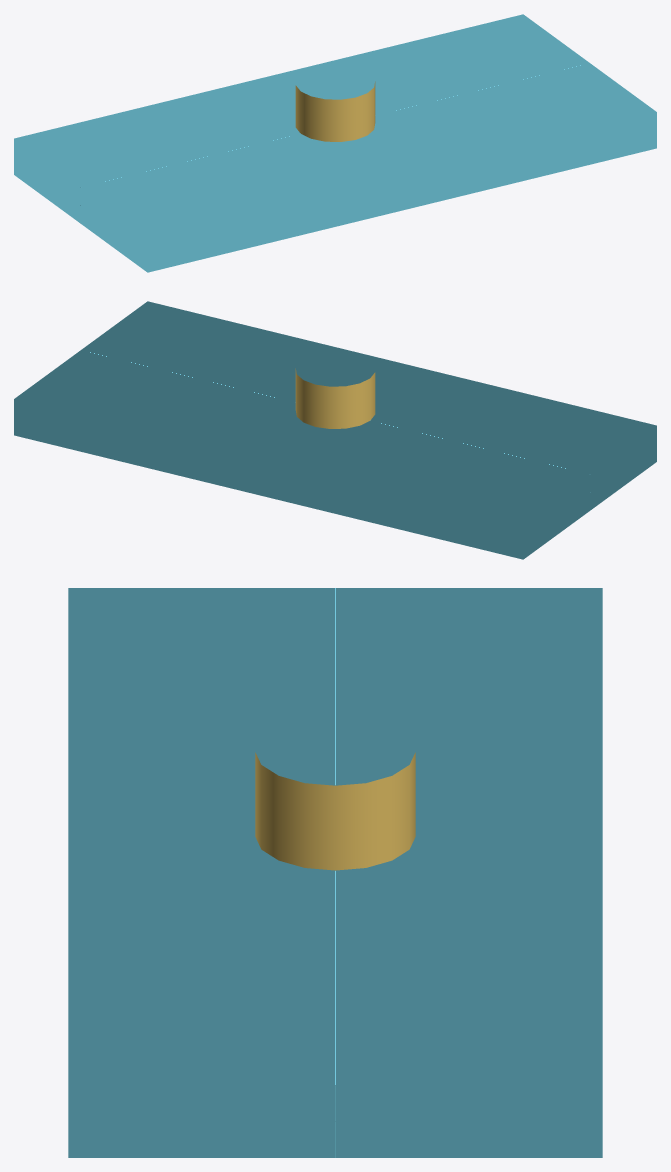
Rendered from riveted_joints.glb.
The picture shows the model from 3 angles, top to bottom: view 1: azimuth 30°, elevation 25°; view 2: azimuth 150°, elevation 25°; view 3: azimuth 270°, elevation 25°; orthographic projection. The views are drawn at different scales.
Parts seen in each view (by area): view 1: LapJointPlate, RivetShank; view 2: LapJointPlate, RivetShank; view 3: LapJointPlate, RivetShank.
Boxes of the visible parts, x1=… form: LapJointPlate: x1=14, y1=14, x2=656, y2=272; RivetShank: x1=295, y1=81, x2=375, y2=141; LapJointPlate: x1=14, y1=301, x2=656, y2=559; RivetShank: x1=295, y1=368, x2=375, y2=428; LapJointPlate: x1=68, y1=588, x2=602, y2=1157; RivetShank: x1=255, y1=752, x2=415, y2=870.
Bounding box in the file's own units: 2.2 × 0.5 × 1.
